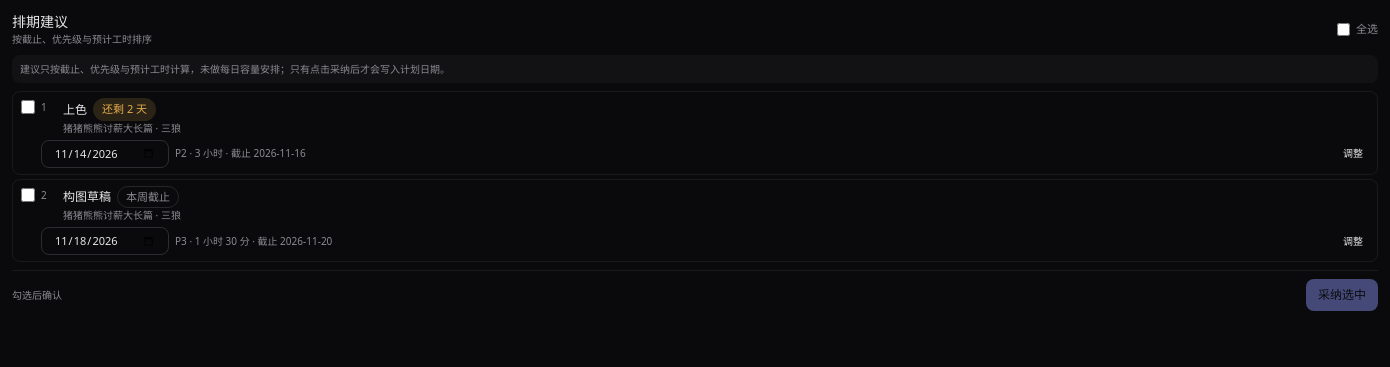
Scenario: 排期建议面板 › 全选后一次提交全部建议
This screenshot has width=1390, height=367.
Click the checkbox named "全选建议": (1344, 30) [1337,23,1350,36]
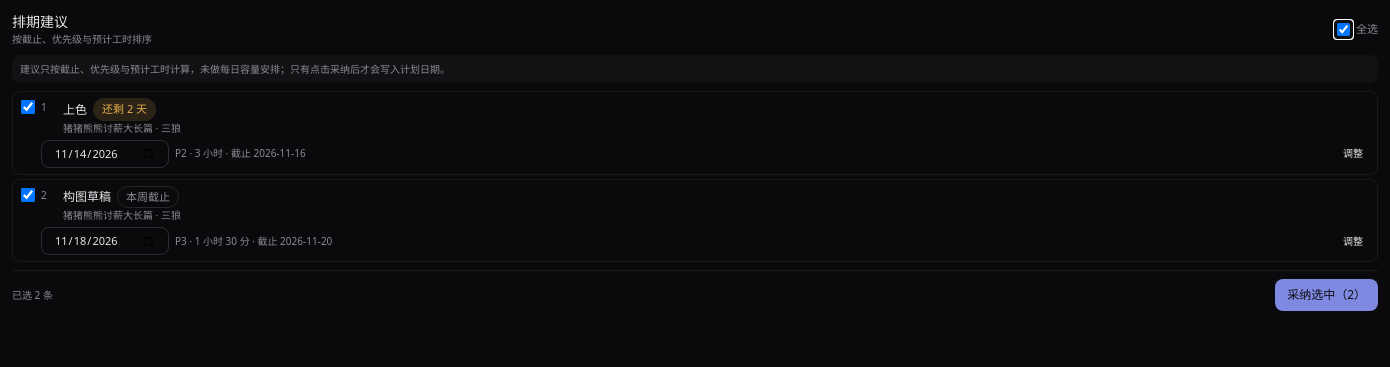
expect the button "采纳选中（2）" is enabled: met
Click the button "采纳选中（2）": (1327, 295) [1275,279,1378,311]
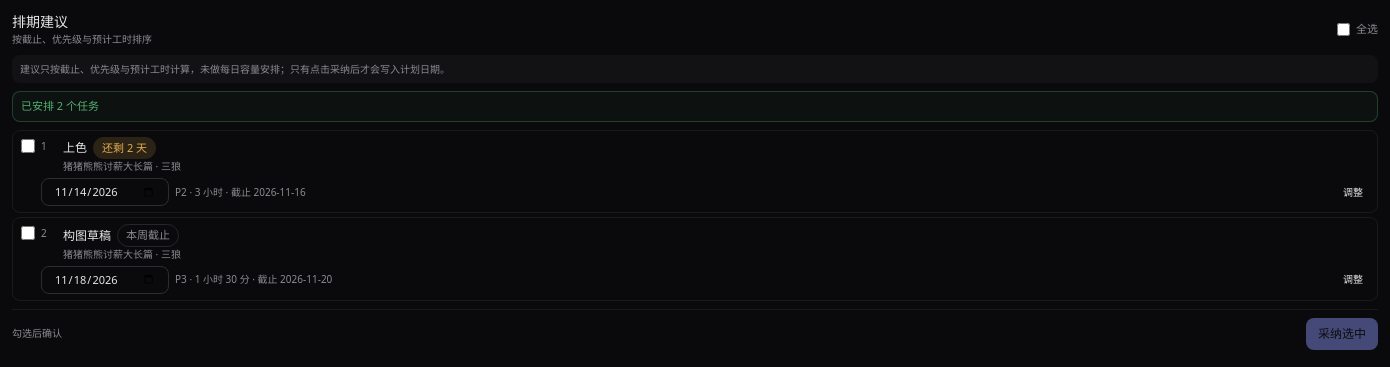
expect the message reads "已安排 2 个任务": met, box [21,98,99,113]
